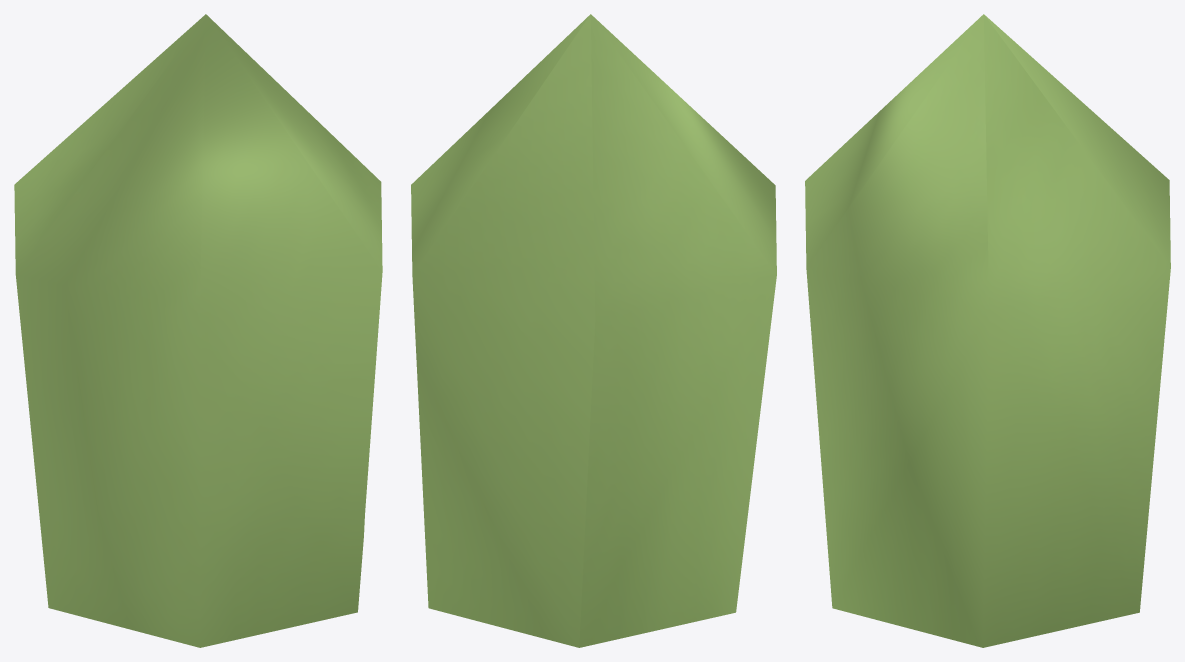
3 renders of one model, left to right at view 1: azimuth 30°, elevation 25°; view 2: azimuth 150°, elevation 25°; view 3: azimuth 270°, elevation 25°, orthographic.
Parts seen in each view (by area): view 1: LOD2Bush.001; view 2: LOD2Bush.001; view 3: LOD2Bush.001.
Boxes of the visible parts, <box> form: LOD2Bush.001: <box>14,14,382,647</box>; LOD2Bush.001: <box>411,14,776,647</box>; LOD2Bush.001: <box>805,14,1170,647</box>.
Bounding box in the file's own units: 4.61 × 6.74 × 4.01.
1 material, 1 textured.
